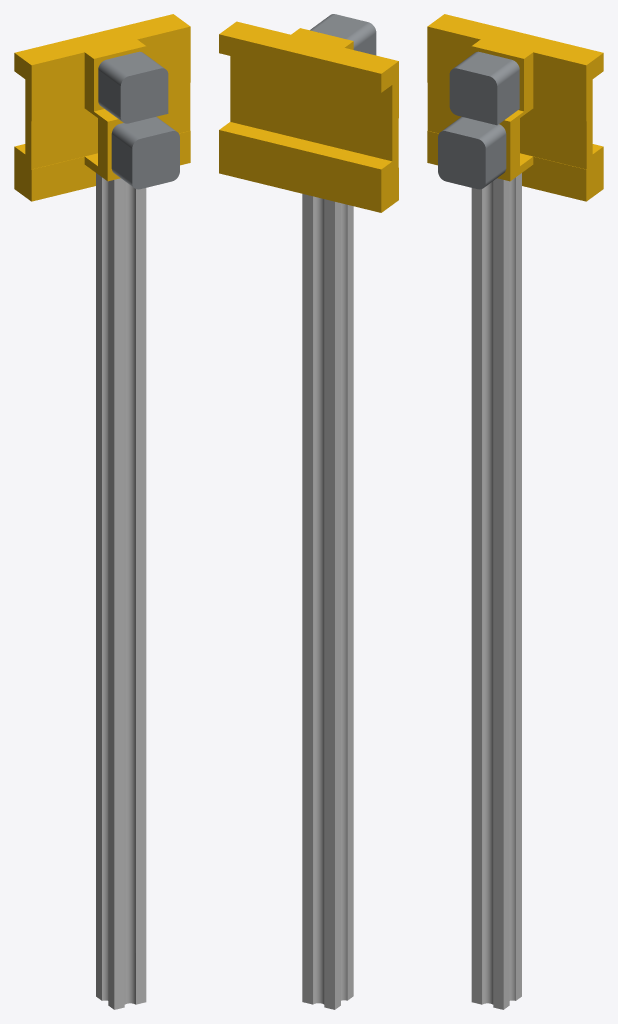
Rendered from 2DPlotter-XCarriage.gltf.
3 renders of one model, left to right at view 1: azimuth 30°, elevation 25°; view 2: azimuth 150°, elevation 25°; view 3: azimuth 330°, elevation 25°, orthographic. The views are drawn at different scales.
Parts seen in each view (by area): view 1: mesh5_meshnode_5, mesh6_meshnode_6, mesh4_meshnode_4, mesh7_meshnode_7, mesh8_meshnode_8, mesh11_meshnode_11, mesh49_meshnode_49, mesh34_meshnode_34, mesh35_meshnode_35, mesh20_meshnode_20, mesh46_meshnode_46, mesh28_meshnode_28 (+9 smaller); view 2: mesh38_meshnode_38, mesh13_meshnode_13, mesh12_meshnode_12, mesh0_meshnode_0, mesh40_meshnode_40, mesh8_meshnode_8, mesh7_meshnode_7, mesh11_meshnode_11, mesh34_meshnode_34, mesh36_meshnode_36, mesh39_meshnode_39, mesh48_meshnode_48 (+1 smaller); view 3: mesh5_meshnode_5, mesh4_meshnode_4, mesh6_meshnode_6, mesh3_meshnode_3, mesh2_meshnode_2, mesh1_meshnode_1, mesh49_meshnode_49, mesh34_meshnode_34, mesh33_meshnode_33, mesh20_meshnode_20, mesh46_meshnode_46, mesh28_meshnode_28 (+8 smaller).
Part boxes in pixels (left/top/right/bottom): mesh5_meshnode_5: left=124, top=181, right=135, bottom=1004; mesh6_meshnode_6: left=114, top=178, right=124, bottom=1009; mesh4_meshnode_4: left=136, top=188, right=146, bottom=1004; mesh7_meshnode_7: left=108, top=180, right=114, bottom=1009; mesh8_meshnode_8: left=102, top=177, right=108, bottom=1000; mesh11_meshnode_11: left=96, top=173, right=101, bottom=1000; mesh49_meshnode_49: left=31, top=83, right=190, bottom=169; mesh34_meshnode_34: left=14, top=14, right=190, bottom=65; mesh35_meshnode_35: left=31, top=52, right=84, bottom=121; mesh20_meshnode_20: left=132, top=131, right=179, bottom=189; mesh46_meshnode_46: left=31, top=131, right=190, bottom=201; mesh28_meshnode_28: left=120, top=68, right=168, bottom=123; mesh38_meshnode_38: left=230, top=56, right=392, bottom=161; mesh13_meshnode_13: left=313, top=196, right=324, bottom=1004; mesh12_meshnode_12: left=324, top=199, right=334, bottom=1009; mesh0_meshnode_0: left=302, top=194, right=312, bottom=1004; mesh40_meshnode_40: left=219, top=130, right=381, bottom=212; mesh8_meshnode_8: left=341, top=203, right=347, bottom=1000; mesh7_meshnode_7: left=347, top=205, right=353, bottom=1000; mesh11_meshnode_11: left=335, top=202, right=340, bottom=1009; mesh34_meshnode_34: left=219, top=21, right=398, bottom=73; mesh36_meshnode_36: left=219, top=34, right=381, bottom=92; mesh39_meshnode_39: left=219, top=122, right=391, bottom=169; mesh48_meshnode_48: left=381, top=61, right=398, bottom=212; mesh5_meshnode_5: left=482, top=181, right=493, bottom=1004; mesh4_meshnode_4: left=493, top=178, right=503, bottom=1009; mesh6_meshnode_6: left=471, top=188, right=481, bottom=1004; mesh3_meshnode_3: left=503, top=180, right=509, bottom=1009; mesh2_meshnode_2: left=509, top=177, right=515, bottom=1000; mesh1_meshnode_1: left=516, top=173, right=521, bottom=1000; mesh49_meshnode_49: left=427, top=83, right=586, bottom=169; mesh34_meshnode_34: left=427, top=14, right=603, bottom=65; mesh33_meshnode_33: left=533, top=52, right=586, bottom=121; mesh20_meshnode_20: left=438, top=131, right=485, bottom=189; mesh46_meshnode_46: left=427, top=131, right=586, bottom=201; mesh28_meshnode_28: left=449, top=68, right=497, bottom=125.
Bounding box in the file's own units: 0.1 × 0.5685 × 0.0677.
